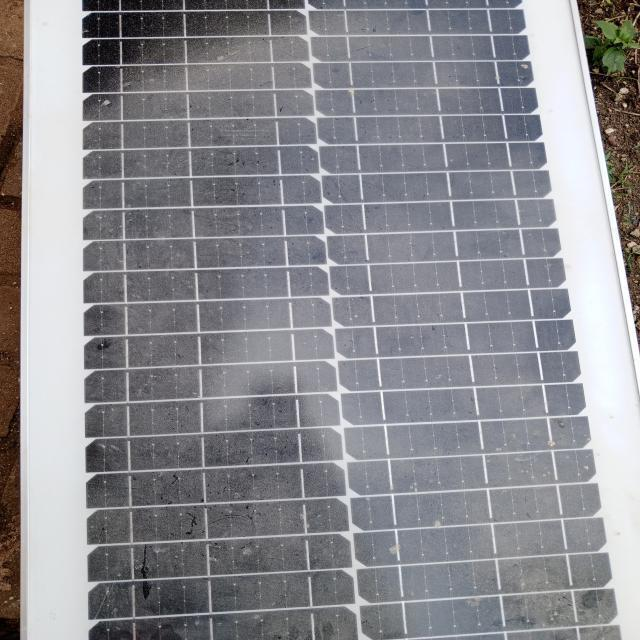Surface Contaminant: (50, 5, 560, 639)
